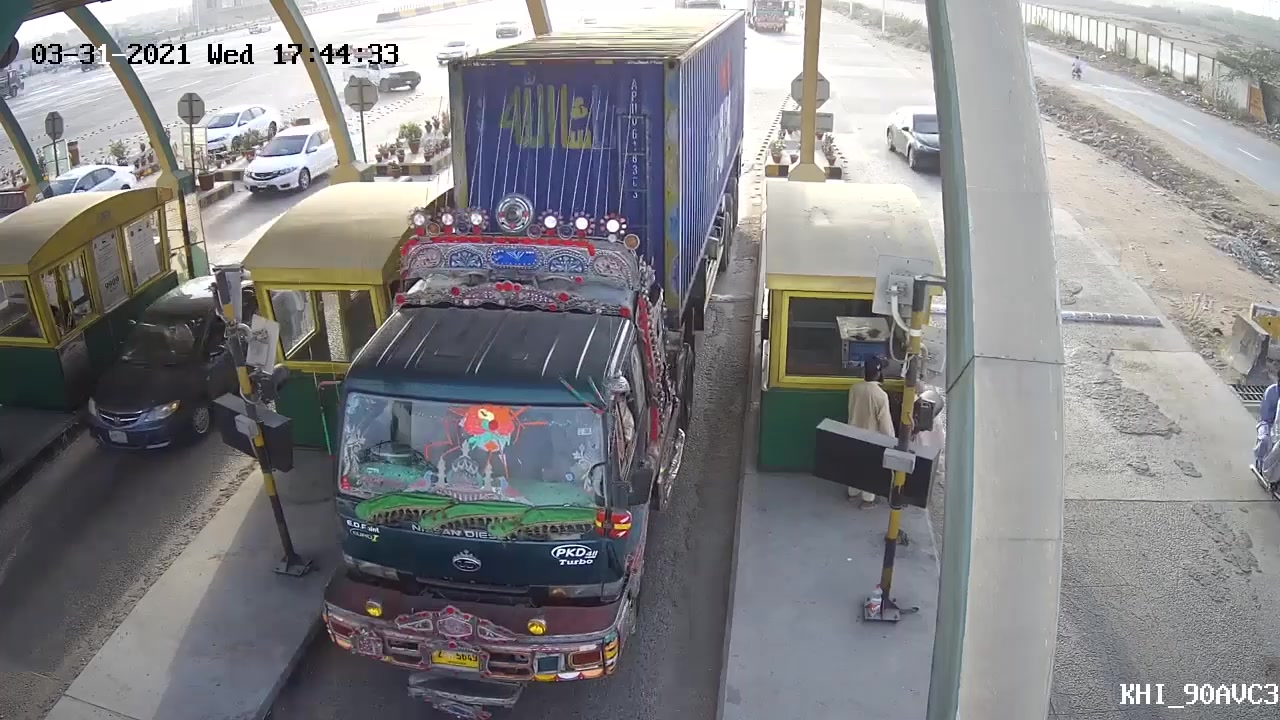F6: (313, 13, 751, 711)
